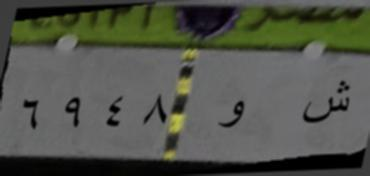4: (100, 95, 131, 132)
6: (14, 93, 50, 130)
8: (136, 90, 172, 129)
9: (60, 91, 90, 134)
sheen: (298, 74, 359, 130)
waw: (215, 93, 252, 133)
